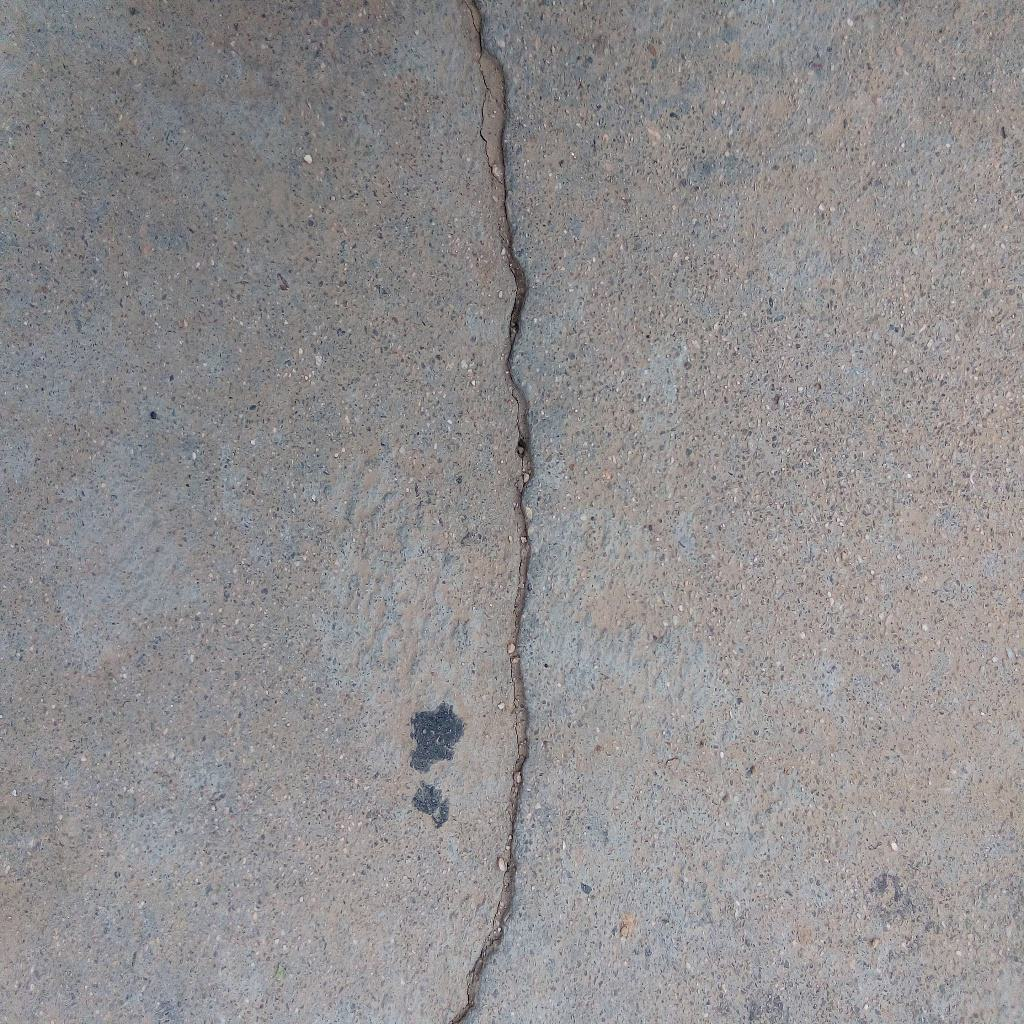Crack: (448, 1, 534, 1024)
